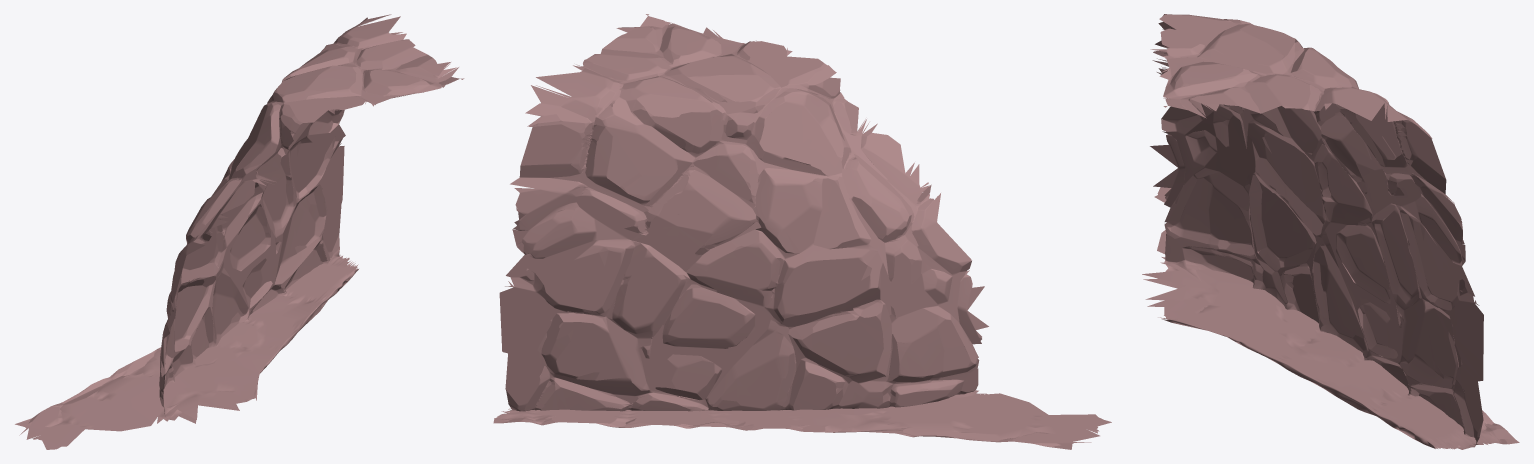
Rendered from cliff_area_2.fbx_Cliff_Area_2_008LODs.fbx.
3 renders of one model, left to right at view 1: azimuth 30°, elevation 25°; view 2: azimuth 150°, elevation 25°; view 3: azimuth 270°, elevation 25°, orthographic. The views are drawn at different scales.
Parts seen in each view (by area): view 1: Cliff Area 2.008_LOD0; view 2: Cliff Area 2.008_LOD0; view 3: Cliff Area 2.008_LOD0.
Part boxes in pixels (x1,y1,x2,y2): Cliff Area 2.008_LOD0: (15,14,464,449); Cliff Area 2.008_LOD0: (493,14,1111,449); Cliff Area 2.008_LOD0: (1142,14,1519,449).
Size of what is drawn, in the model's own units: 6689 by 3947 by 3906.
